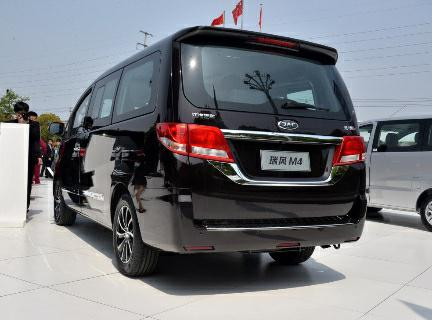江淮-瑞风: (54, 24, 378, 280)
